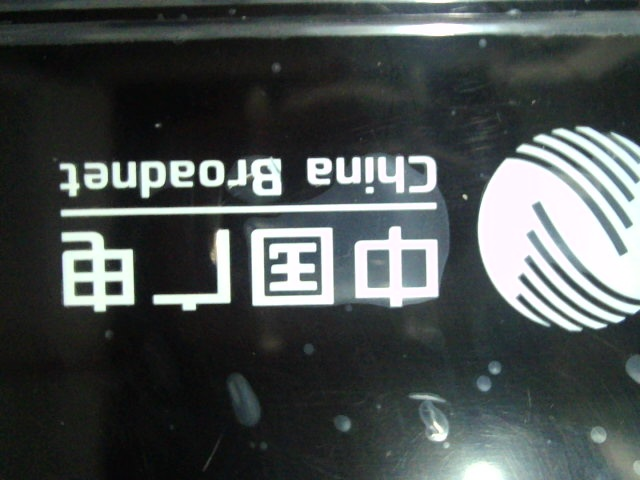AW_ChinaBroadNet: (42, 121, 638, 344)
